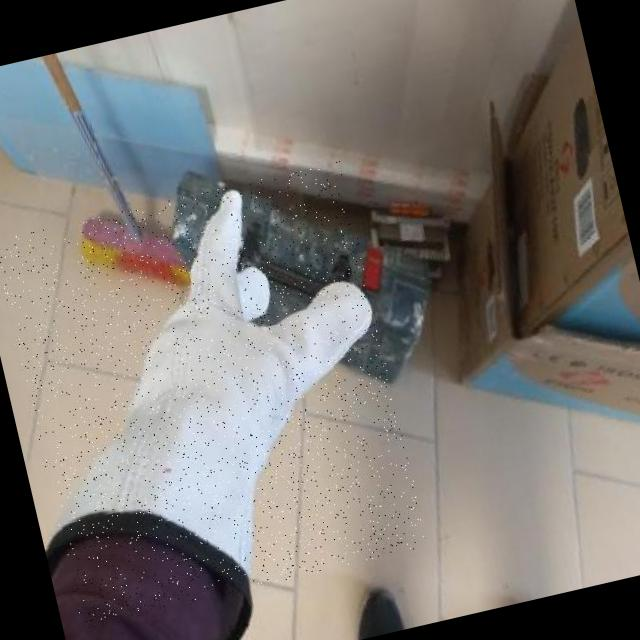forklift: (0, 164, 431, 618)
